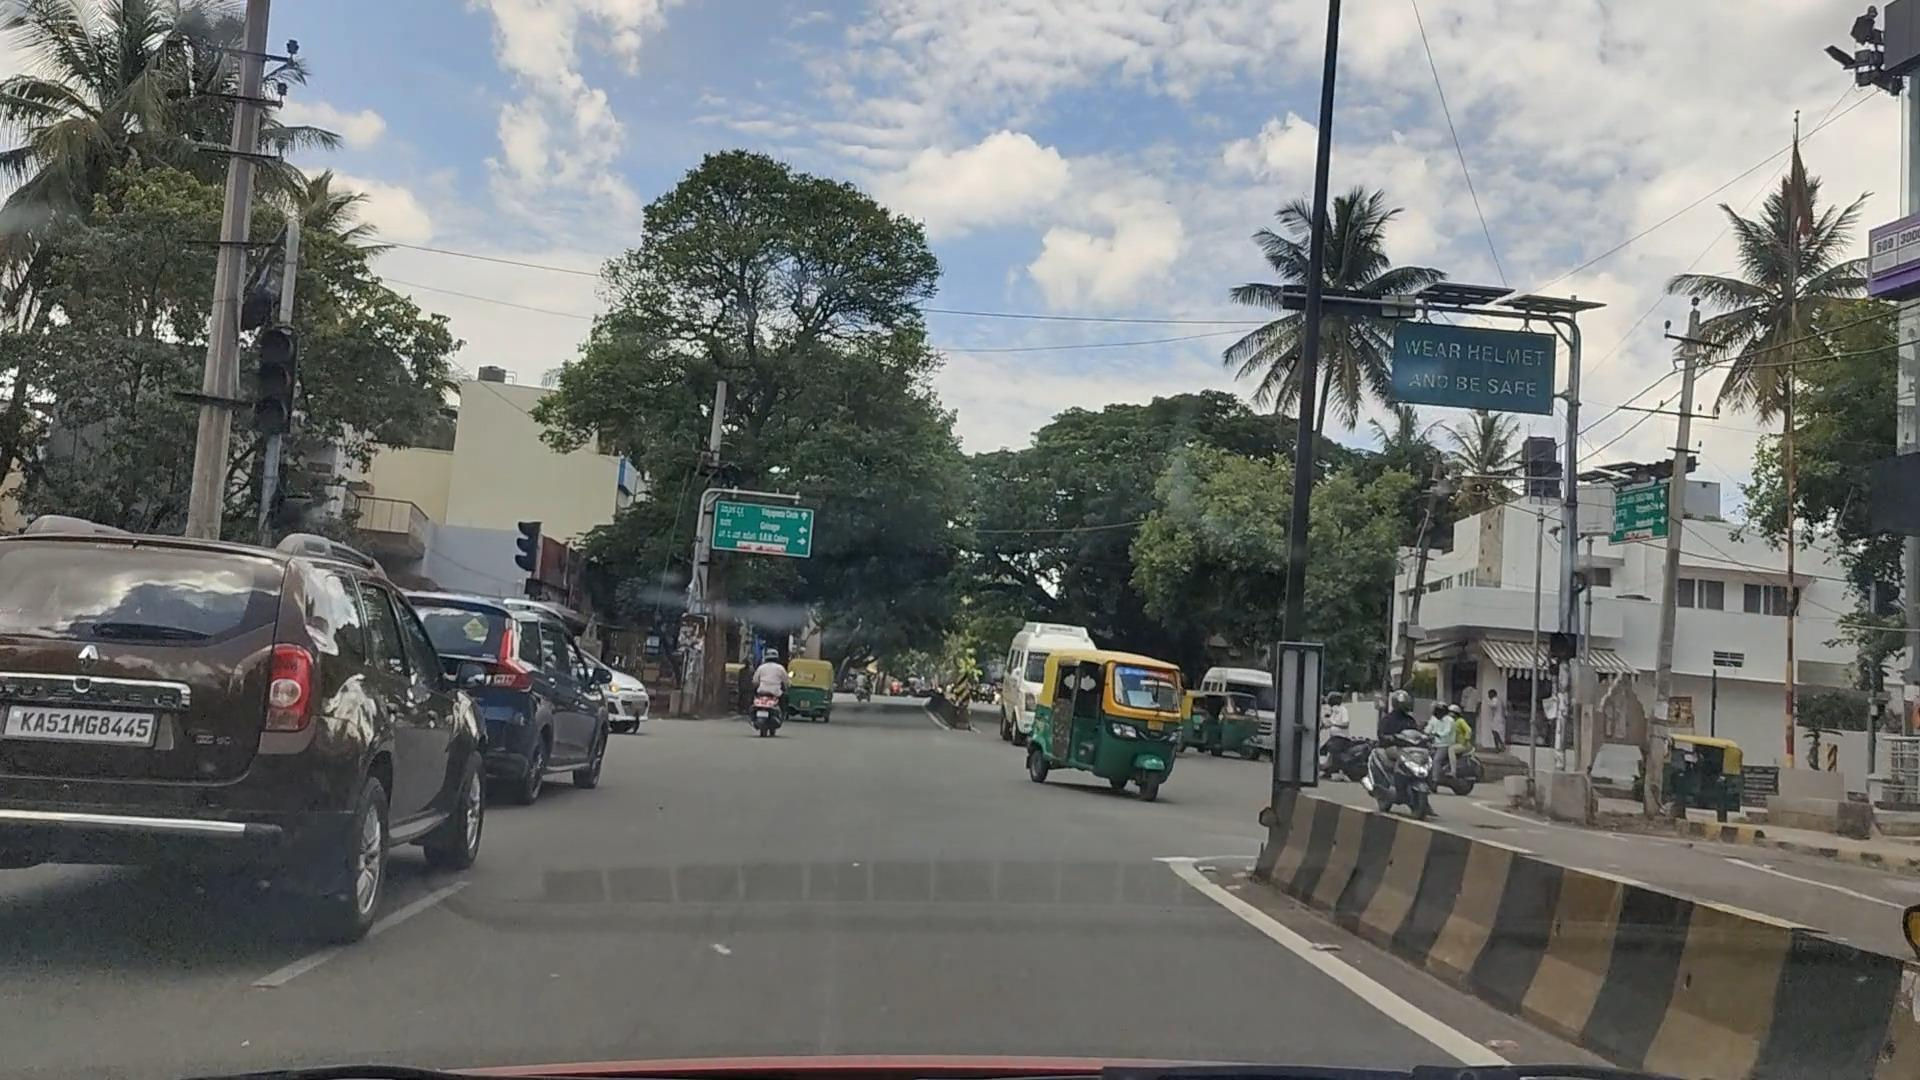LMV: (0, 508, 488, 939), (376, 550, 620, 800)
